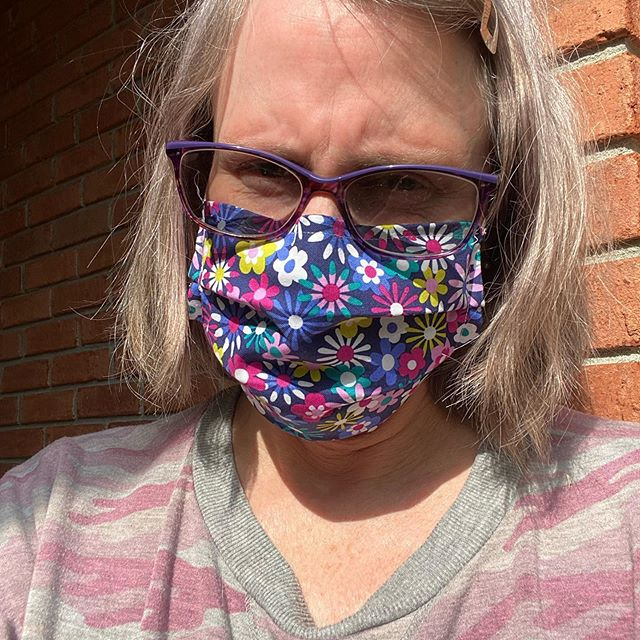homemade: (165, 187, 505, 440)
